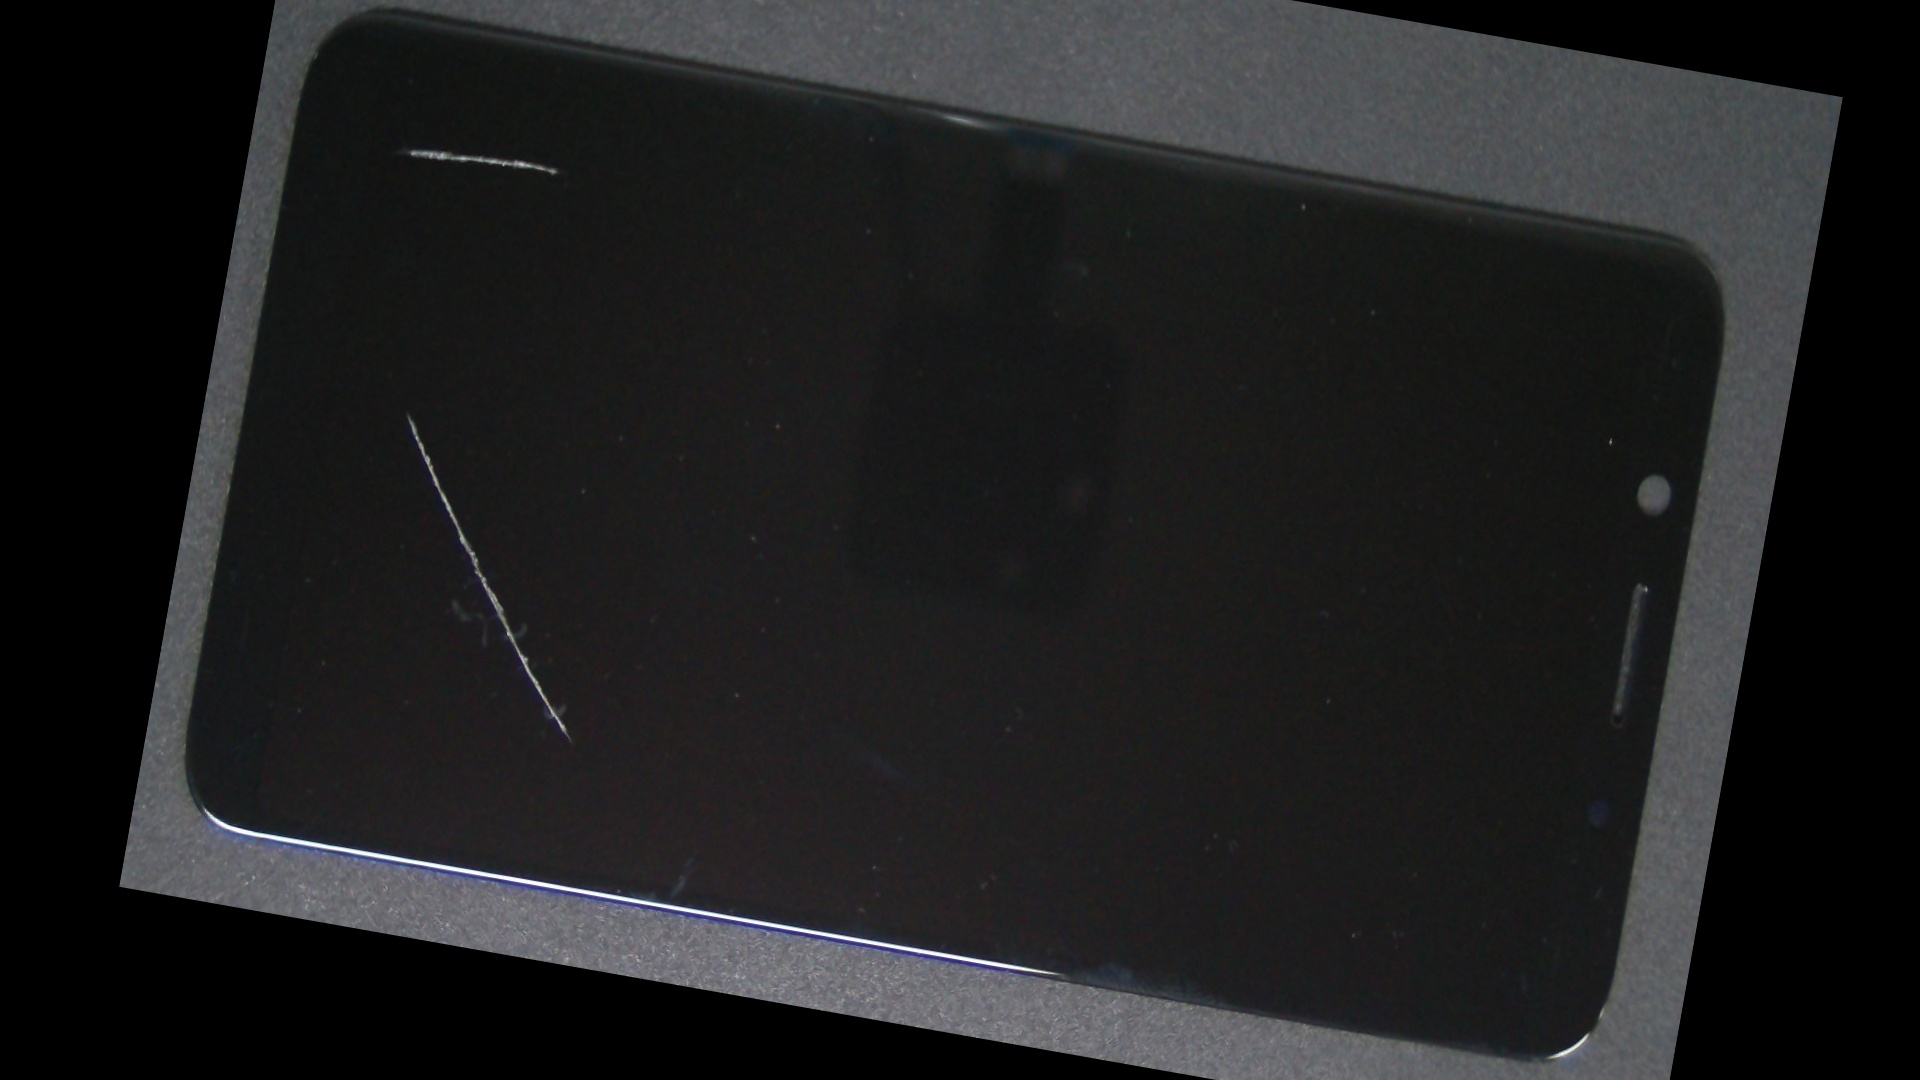oil: (260, 119, 556, 705), (360, 0, 669, 326)
